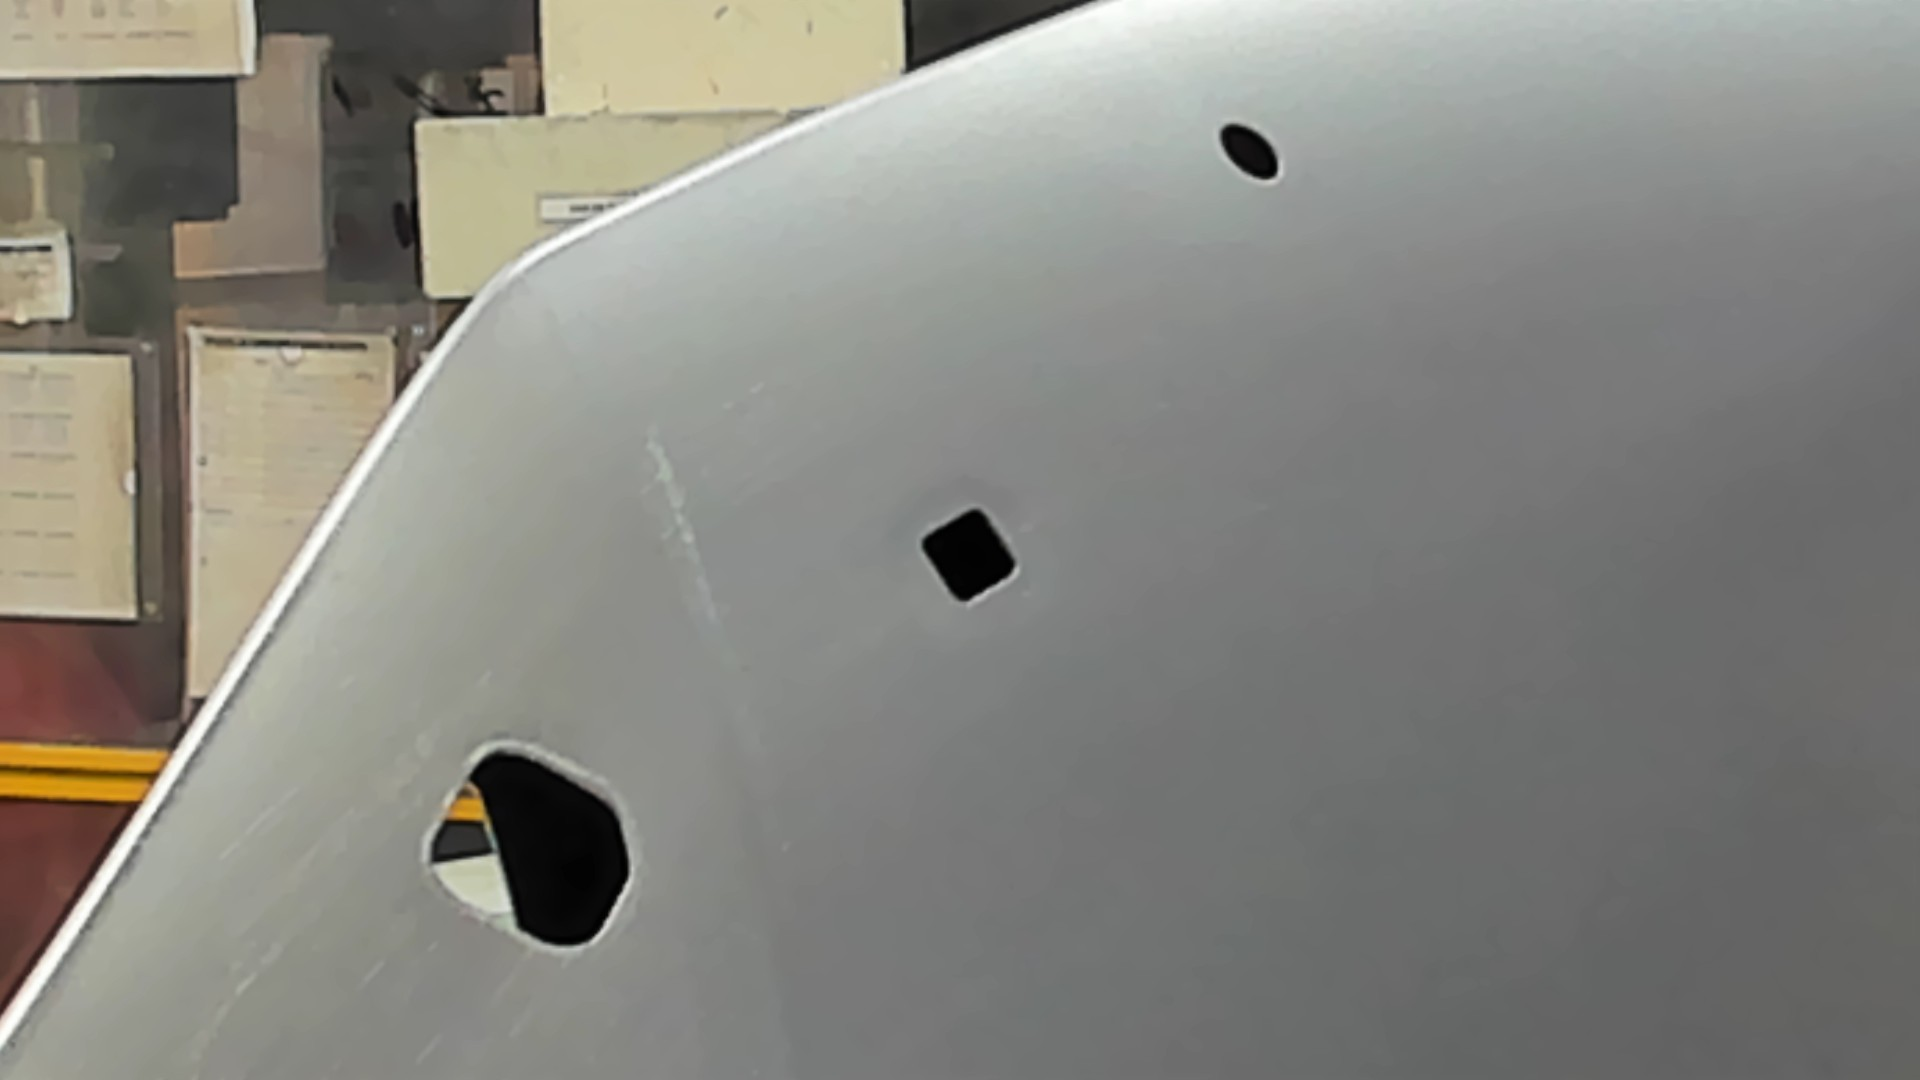chico: (1215, 117, 1284, 183)
grande: (418, 735, 642, 955)
mediano: (918, 501, 1021, 607)
